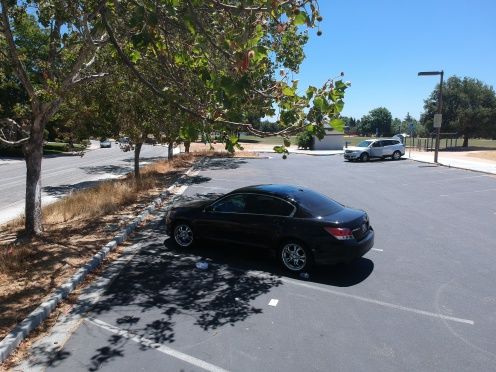plastic bag: (190, 258, 214, 272)
